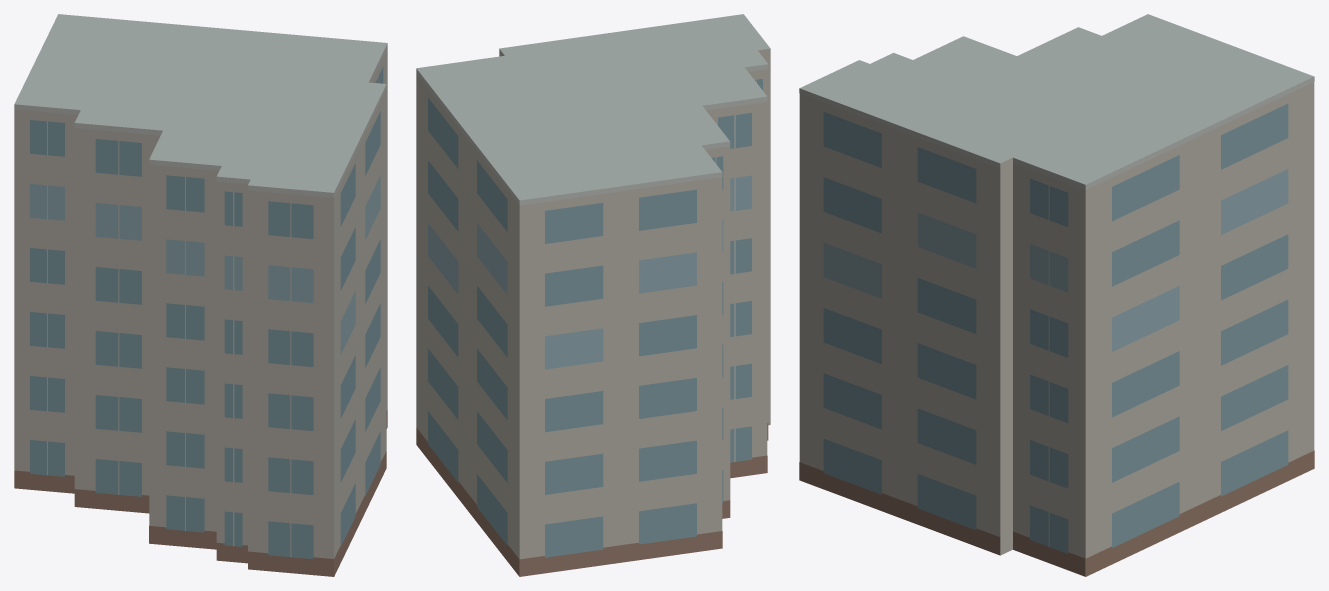
File: survey-upis-32523877.glb
The picture shows the model from 3 angles, left to right: view 1: azimuth 30°, elevation 25°; view 2: azimuth 150°, elevation 25°; view 3: azimuth 270°, elevation 25°; orthographic projection. The views are drawn at different scales.
Parts seen in each view (by area): view 1: survey-upis-32523877.tmp; view 2: survey-upis-32523877.tmp; view 3: survey-upis-32523877.tmp.
Boxes of the visible parts, x1=… form: survey-upis-32523877.tmp: x1=14, y1=14, x2=387, y2=576; survey-upis-32523877.tmp: x1=416, y1=14, x2=770, y2=576; survey-upis-32523877.tmp: x1=799, y1=14, x2=1314, y2=576.
Bounding box in the file's own units: 17.11 × 18.3 × 21.79.
